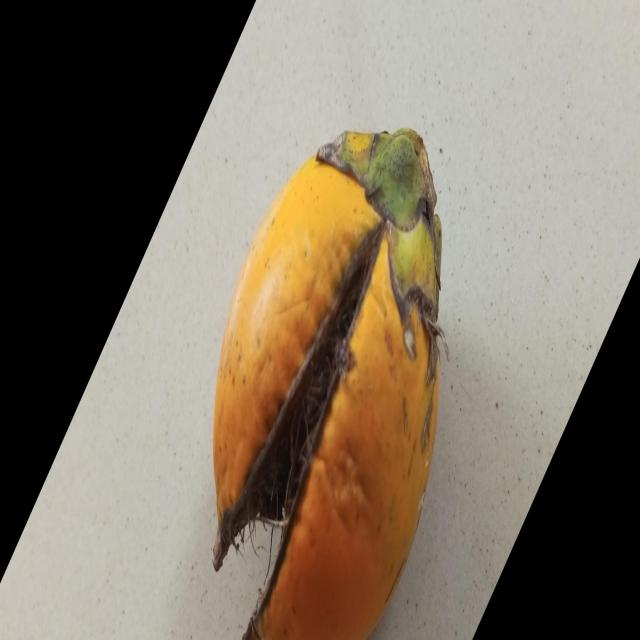damaged: (213, 129, 444, 640)
